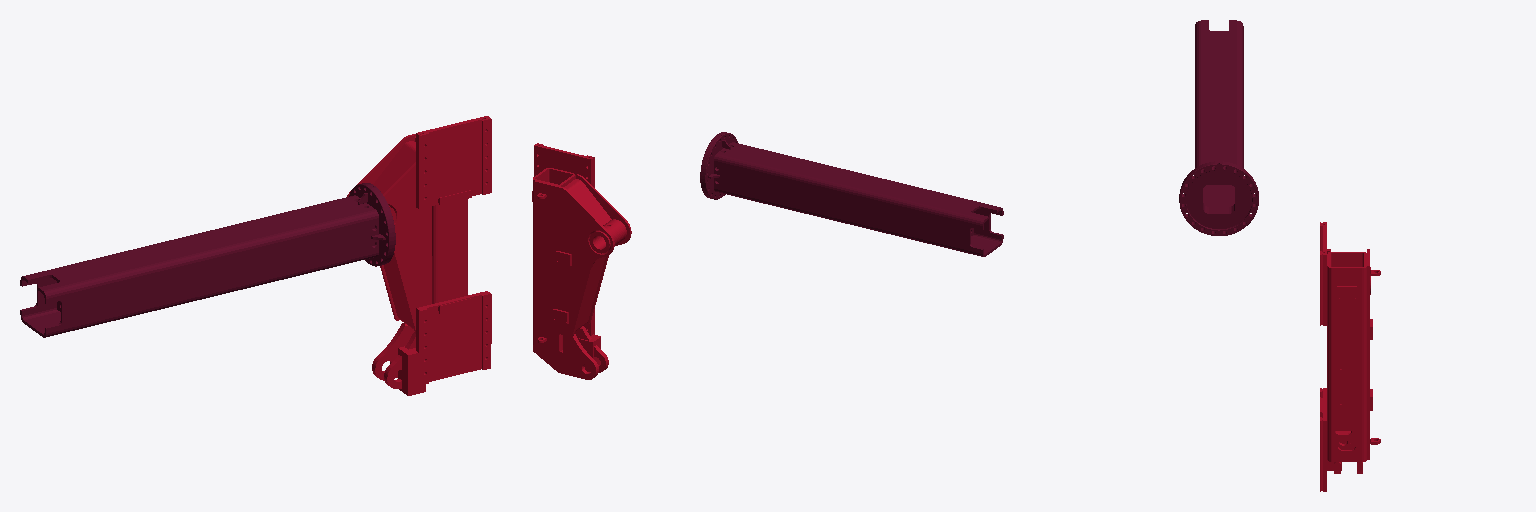
robot.urdf — Robot:
<?xml version="1.0" encoding="UTF-8"?>
<robot name="Robot">
    <link name="arm1">
        <inertial>
            <origin rpy="0 0 0" xyz="0.00000000 0.00000000 0.00000000"/>
            <mass value="1.00000000"/>
            <inertia ixx="1.00000000" ixy="0.00000000" ixz="0.00000000" iyy="1.00000000" iyz="0.00000000" izz="1.00000000"/>
        </inertial>
        <visual>
            <origin rpy="1.57075 0 1.57075" xyz="0.00000000 0.00000000 -0.7"/>
            <geometry>
               <mesh filename="package://robot_visualization/meshes/p1.stl" scale="0.001 0.001 0.001"/>
            </geometry>
            <material name="">
                <color rgba="0.124 0.098 0.2044 1.00000000"/>
            </material>
        </visual>
    </link>
    <link name="arm2">
        <inertial>
            <origin rpy="0.00000000 0.00000000 0.00000000" xyz="0.00000000 0.00000000 0.00000000"/>
            <mass value="1.00000000"/>
            <inertia ixx="1.00000000" ixy="0.00000000" ixz="0.00000000" iyy="1.00000000" iyz="0.00000000" izz="1.00000000"/>
        </inertial>
        <visual>
            <origin rpy="0.00000000 -1.57075 3.1415" xyz="-0.4 0.7 0"/>
            <geometry>
               <mesh filename="package://robot_visualization/meshes/p2.stl" scale="0.001 0.001 0.001"/>
            </geometry>
            <material name="">
                <color rgba="0.266 0.098 0.2044 1.00000000"/>
            </material>
        </visual>
    </link>
    <link name="arm3">
        <inertial>
            <origin rpy="0.00000000 0.00000000 0.00000000" xyz="0.00000000 0.00000000 0.00000000"/>
            <mass value="1.00000000"/>
            <inertia ixx="1.00000000" ixy="0.00000000" ixz="0.00000000" iyy="1.00000000" iyz="0.00000000" izz="1.00000000"/>
        </inertial>
        <visual>
            <origin rpy="0.00000000 0.00000000 0.00000000" xyz="0 -0.744 -2.9"/>
            <geometry>
               <mesh filename="package://robot_visualization/meshes/p2_1.stl" scale="0.001 0.001 0.001"/>
            </geometry>
            <material name="">
                <color rgba="0.4088 0.098 0.2044 1.00000000"/>
            </material>
        </visual>
    </link>
    <link name="arm4">
        <inertial>
            <origin rpy="0.00000000 0.00000000 0.00000000" xyz="0.00000000 0.00000000 0.00000000"/>
            <mass value="1.00000000"/>
            <inertia ixx="1.00000000" ixy="0.00000000" ixz="0.00000000" iyy="1.00000000" iyz="0.00000000" izz="1.00000000"/>
        </inertial>
        <visual>
            <origin rpy="0.00000000 0 3.1415" xyz="0.00000000 0.750 -2.9"/>
            <geometry>
               <mesh filename="package://robot_visualization/meshes/rot.stl" scale="0.001 0.001 0.001"/>
            </geometry>
            <material name="">
                <color rgba="0.5511 0.098 0.2044 1.00000000"/>
            </material>
        </visual>
    </link>
    <link name="arm5">
        <inertial>
            <origin rpy="0.00000000 0.00000000 0.00000000" xyz="0.00000000 0.00000000 0.00000000"/>
            <mass value="1.00000000"/>
            <inertia ixx="1.00000000" ixy="0.00000000" ixz="0.00000000" iyy="1.00000000" iyz="0.00000000" izz="1.00000000"/>
        </inertial>
        <visual>
            <origin rpy="-3.1415 -1.57075 0" xyz="-3.000000 0.5 -0.5"/>
            <geometry>
               <mesh filename="package://robot_visualization/meshes/p4.stl" scale="0.001 0.001 0.001"/>
            </geometry>
            <material name="">
                <color rgba="0.69333 0.098 0.2044 1.0"/>
            </material>
        </visual>
    </link>
    <link name="arm6">
        <inertial>
            <origin rpy="0.00000000 0.00000000 0.00000000" xyz="0.00000000 0.00000000 0.00000000"/>
            <mass value="1.00000000"/>
            <inertia ixx="1.00000000" ixy="0.00000000" ixz="0.00000000" iyy="1.00000000" iyz="0.00000000" izz="1.00000000"/>
        </inertial>
        <visual>
            <origin rpy="0.00000000 0.00000000 0.00000000" xyz="0.00000000 0.00000000 0"/>
            <geometry>
               <box size = "0.1 0.1 0.220" />
            </geometry>
            <material name="">
                <color rgba="0.69333 0.098 0.2044 1.00000000"/>
            </material>
        </visual>
    </link>
    <link name="base">
        <inertial>
            <mass value="0"/>
            <inertia ixx="0" ixy="0" ixz="0" iyy="0" iyz="0" izz="0"/>
        </inertial>
    </link>
    <link name="endeffector">
        <inertial>
            <origin rpy="0.00000000 0.00000000 0.00000000" xyz="0.00000000 0.00000000 0.00000000"/>
            <mass value="1.00000000"/>
            <inertia ixx="1.00000000" ixy="0.00000000" ixz="0.00000000" iyy="1.00000000" iyz="0.00000000" izz="1.00000000"/>
        </inertial>
    </link>
    <joint name="endeffector_jnt" type="fixed">
        <parent link="arm6"/>
        <child link="endeffector"/>
        <origin rpy="0.00000000 0.00000000 0.00000000" xyz="0.00000000 0.00000000 0.00000000"/>
        <axis xyz="1.00000000 0.00000000 0.00000000"/>
    </joint>
    <joint name="jnt1" type="revolute">
        <parent link="base"/>
        <child link="arm1"/>
        <origin rpy="0.00000000 0.00000000 0.00000000" xyz="0.00000000 0.00000000 0.00000000"/>
        <axis xyz="0.00000000 0.00000000 1.00000000"/>
        <limit lower="-3.14159265" upper="3.14159265" effort="0" velocity="0"/>
    </joint>
    <joint name="jnt2" type="revolute">
        <parent link="arm1"/>
        <child link="arm2"/>
        <origin rpy="-1.57079633  0.00000000  0.00000000" xyz="0.22000000 0.00000000 0.00000000"/>
        <axis xyz="0.00000000 0.00000000 1.00000000"/>
        <limit lower="-3.14159265" upper="3.14159265" effort="0" velocity="0"/>
    </joint>
    <joint name="jnt3" type="prismatic">
        <parent link="arm2"/>
        <child link="arm3"/>
        <origin rpy="0.00000000 1.57079633 0.00000000" xyz="2.41380000 -0.02450000  0.00000000"/>
        <axis xyz="1.00000000 0.00000000 0.00000000"/>
        <limit lower="-0.50000000" upper="0.50000000" effort="0" velocity="0"/>
    </joint>
    <joint name="jnt4" type="revolute">
        <parent link="arm3"/>
        <child link="arm4"/>
        <origin rpy="0.00000000 0.00000000 0.00000000" xyz="0.00000000 0.00000000 0.00000000"/>
        <axis xyz="0.00000000 0.00000000 1.00000000"/>
        <limit lower="-3.14159265" upper="3.14159265" effort="0" velocity="0"/>
    </joint>
    <joint name="jnt5" type="revolute">
        <parent link="arm4"/>
        <child link="arm5"/>
        <origin rpy="0.00000000 -1.57079633  0.00000000" xyz="-0.58290000  0.26500000  0.10300000"/>
        <axis xyz="0.00000000 0.00000000 1.00000000"/>
        <limit lower="-3.14159265" upper="3.14159265" effort="0" velocity="0"/>
    </joint>
    <joint name="jnt6" type="prismatic">
        <parent link="arm5"/>
        <child link="arm6"/>
        <origin rpy="1.57079633 0.00000000 0.00000000" xyz="0.11300000 0.88200000 0.00000000"/>
        <axis xyz="0.00000000 0.00000000 1.00000000"/>
        <limit lower="-0.50000000" upper="0.50000000" effort="0" velocity="0"/>
    </joint>
</robot>

--- What the picture shows (computed from the rendered views, not written in the file) ---
Views: 3 orthographic renders of the robot side by side, from view 1: azimuth 30°, elevation 25°; view 2: azimuth 150°, elevation 25°; view 3: azimuth 270°, elevation 25°.
Robot: Robot — 8 links, 7 joints (4 revolute, 2 prismatic, 1 fixed); root link base; default pose: all joints at 0.
Visible links, largest first — view 1: arm3, arm5, arm6; view 2: arm3, arm5; view 3: arm3, arm5.
Boxes of the visible links, box(x1,y1,x2,y2) form: arm3: box(20, 183, 395, 337); arm5: box(347, 116, 491, 388); arm6: box(398, 346, 425, 395); arm3: box(700, 132, 1003, 256); arm5: box(532, 143, 631, 379); arm3: box(1179, 20, 1258, 235); arm5: box(1320, 222, 1380, 491).
Bounding box of the posed robot: 2.87 × 1.03 × 1.46 m (x, y, z).
Meshes: 5 distinct files referenced, 2 mesh visuals loaded (2 binary STL); not drawn: 3 (reference not matched to a file when rendering).